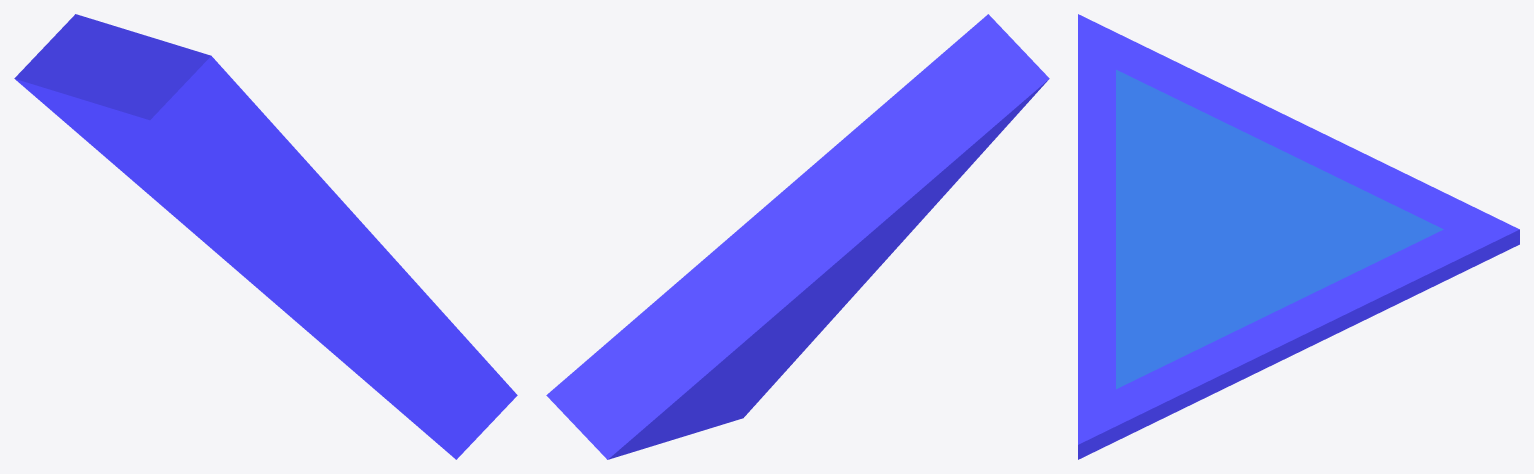
File: Right_Arrow.glb
3 renders of one model, left to right at view 1: azimuth 30°, elevation 25°; view 2: azimuth 150°, elevation 25°; view 3: azimuth 270°, elevation 25°, orthographic. The views are drawn at different scales.
Parts seen in each view (by area): view 1: Rigt_Arrow; view 2: Rigt_Arrow; view 3: Rigt_Arrow.
Boxes of the visible parts, box(x1,y1,x2,y2) form: Rigt_Arrow: box(14, 14, 517, 459); Rigt_Arrow: box(546, 14, 1049, 459); Rigt_Arrow: box(1078, 14, 1519, 459).
Size of what is drawn, in the model's own units: 0.1008 by 0.1216 by 0.1372.
Materials: 1 (1 with a texture image).
